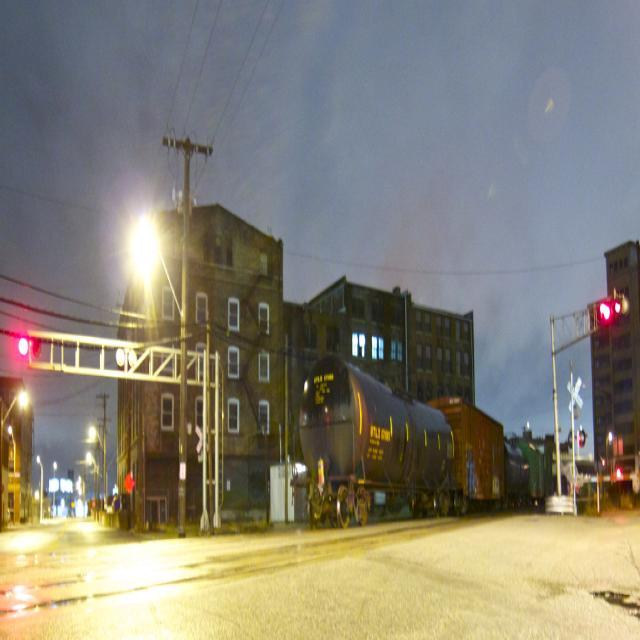traffic light: (599, 293, 624, 325), (17, 334, 43, 362)
